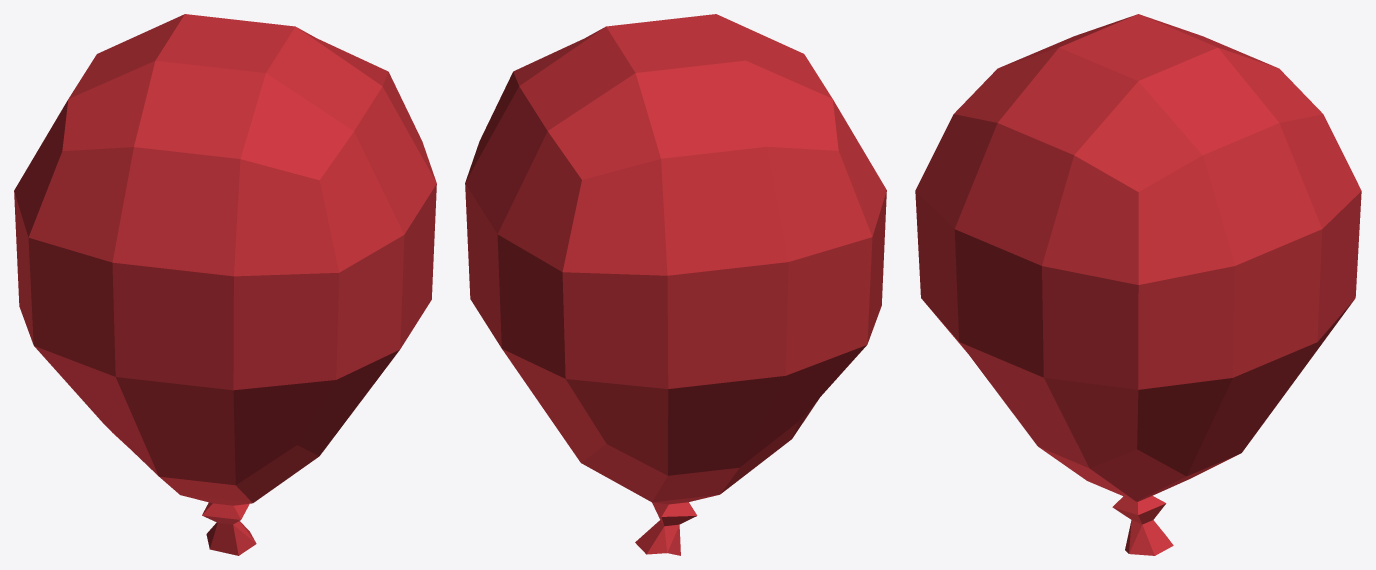
Rendered from props_balloon.fbx.
The picture shows the model from 3 angles, left to right: view 1: azimuth 30°, elevation 25°; view 2: azimuth 150°, elevation 25°; view 3: azimuth 270°, elevation 25°; orthographic projection.
Parts seen in each view (by area): view 1: props_balloon; view 2: props_balloon; view 3: props_balloon.
Part boxes in pixels (bbox=[...]): props_balloon: bbox=[14, 14, 436, 555]; props_balloon: bbox=[465, 14, 886, 555]; props_balloon: bbox=[915, 14, 1361, 555].
Bounding box in the file's own units: 162 × 200 × 162.
